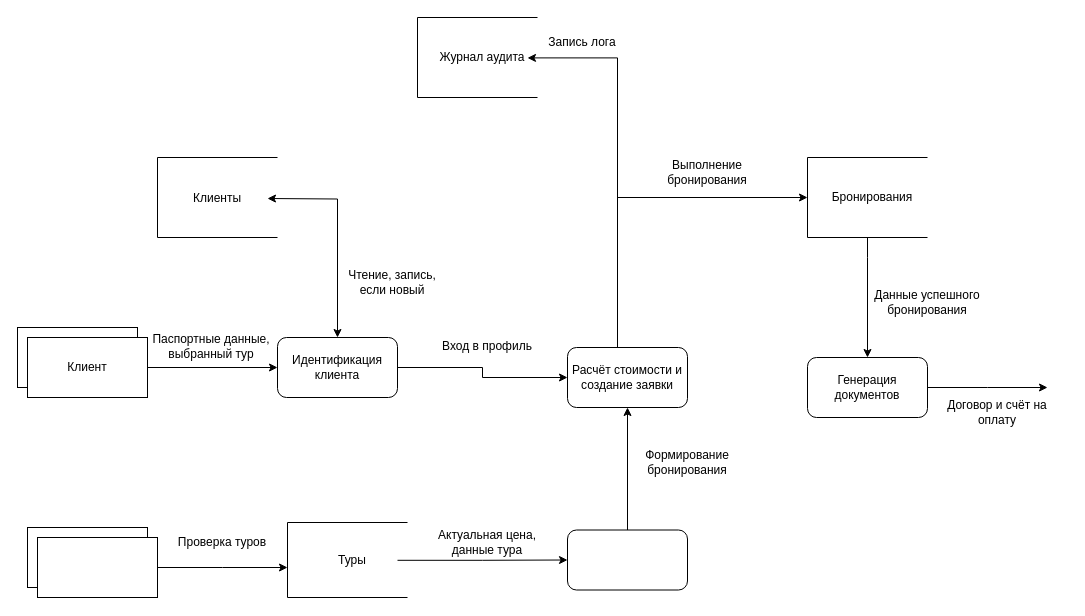
This 1085x616 diagram has some shape labels left out. The centre of each missing label's shape, as x and y in pixels:
"Менеджер" belongs at [97,567].
"Проверка актуальности тура" belongs at [627,559].
